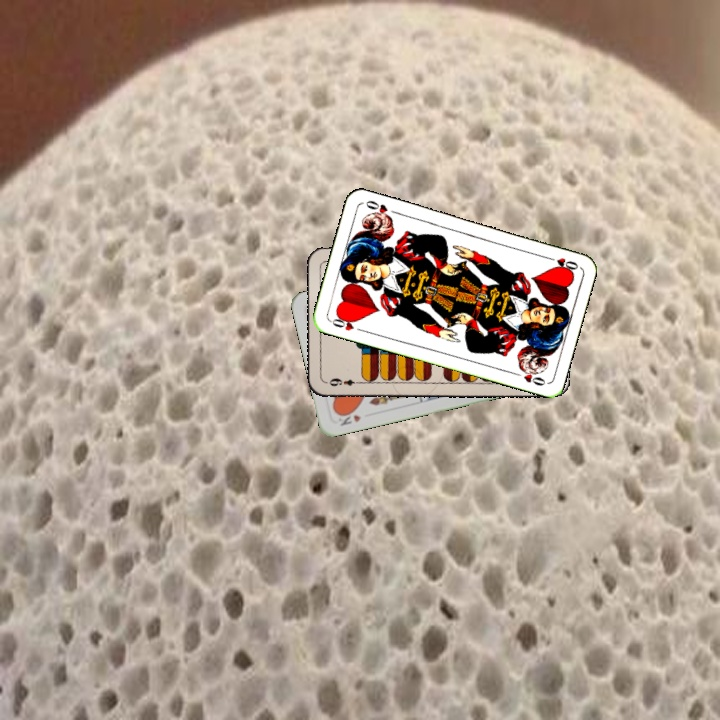E9: (323, 374, 364, 389)
HK: (334, 407, 364, 428)
HO: (327, 311, 366, 334), (541, 252, 581, 273)
